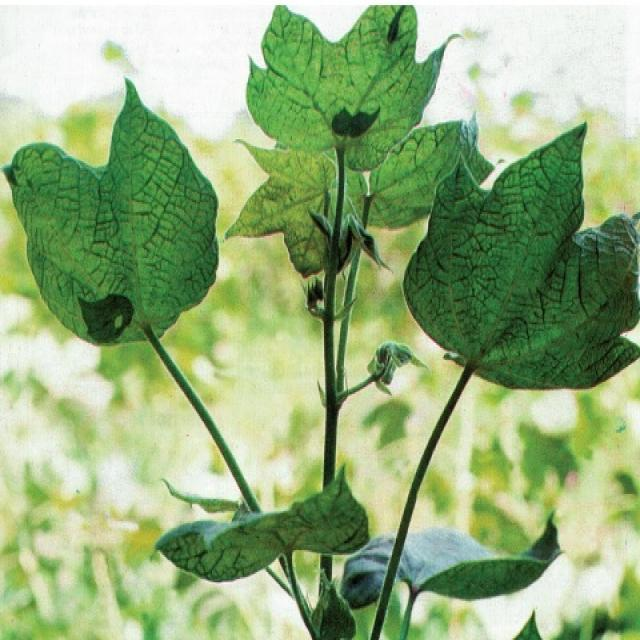Leaf Curl Virus: (287, 51, 604, 364), (26, 150, 187, 312)
